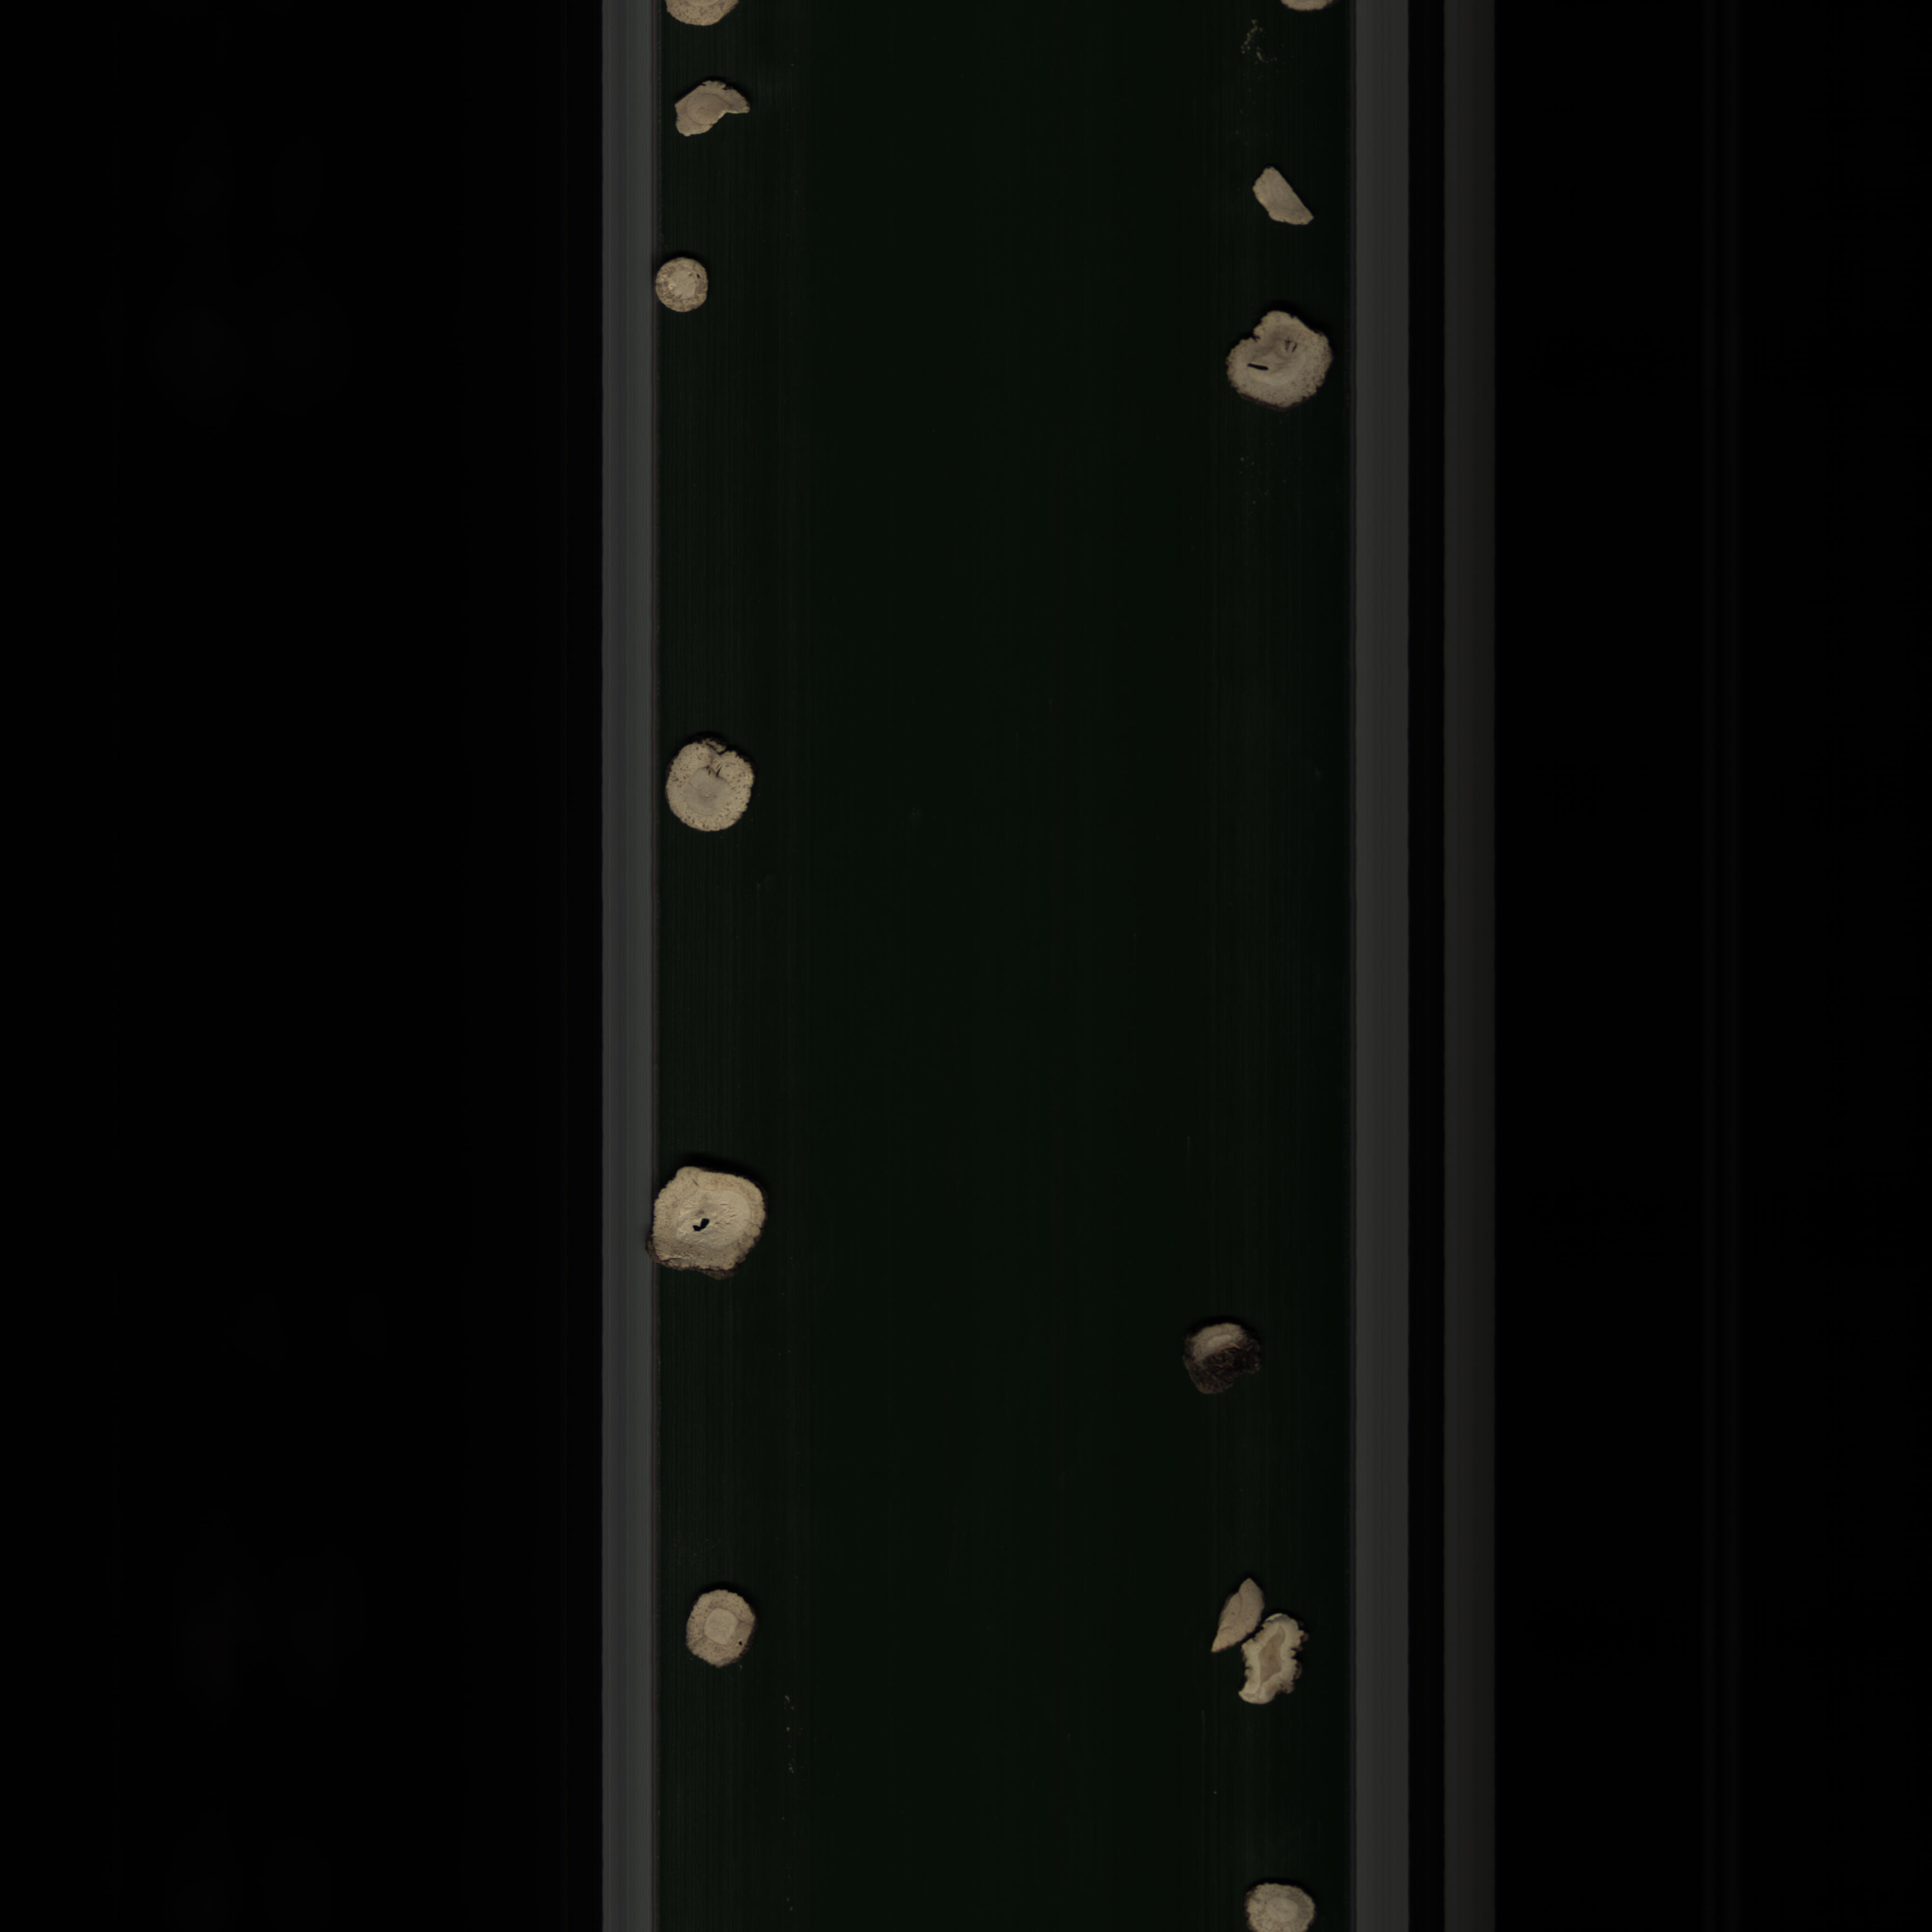debris: (1203, 1568, 1316, 1718), (672, 74, 759, 154), (1242, 166, 1329, 230)
hole: (640, 1148, 766, 1295), (1221, 310, 1339, 423)
moldy: (1177, 1302, 1281, 1403)
